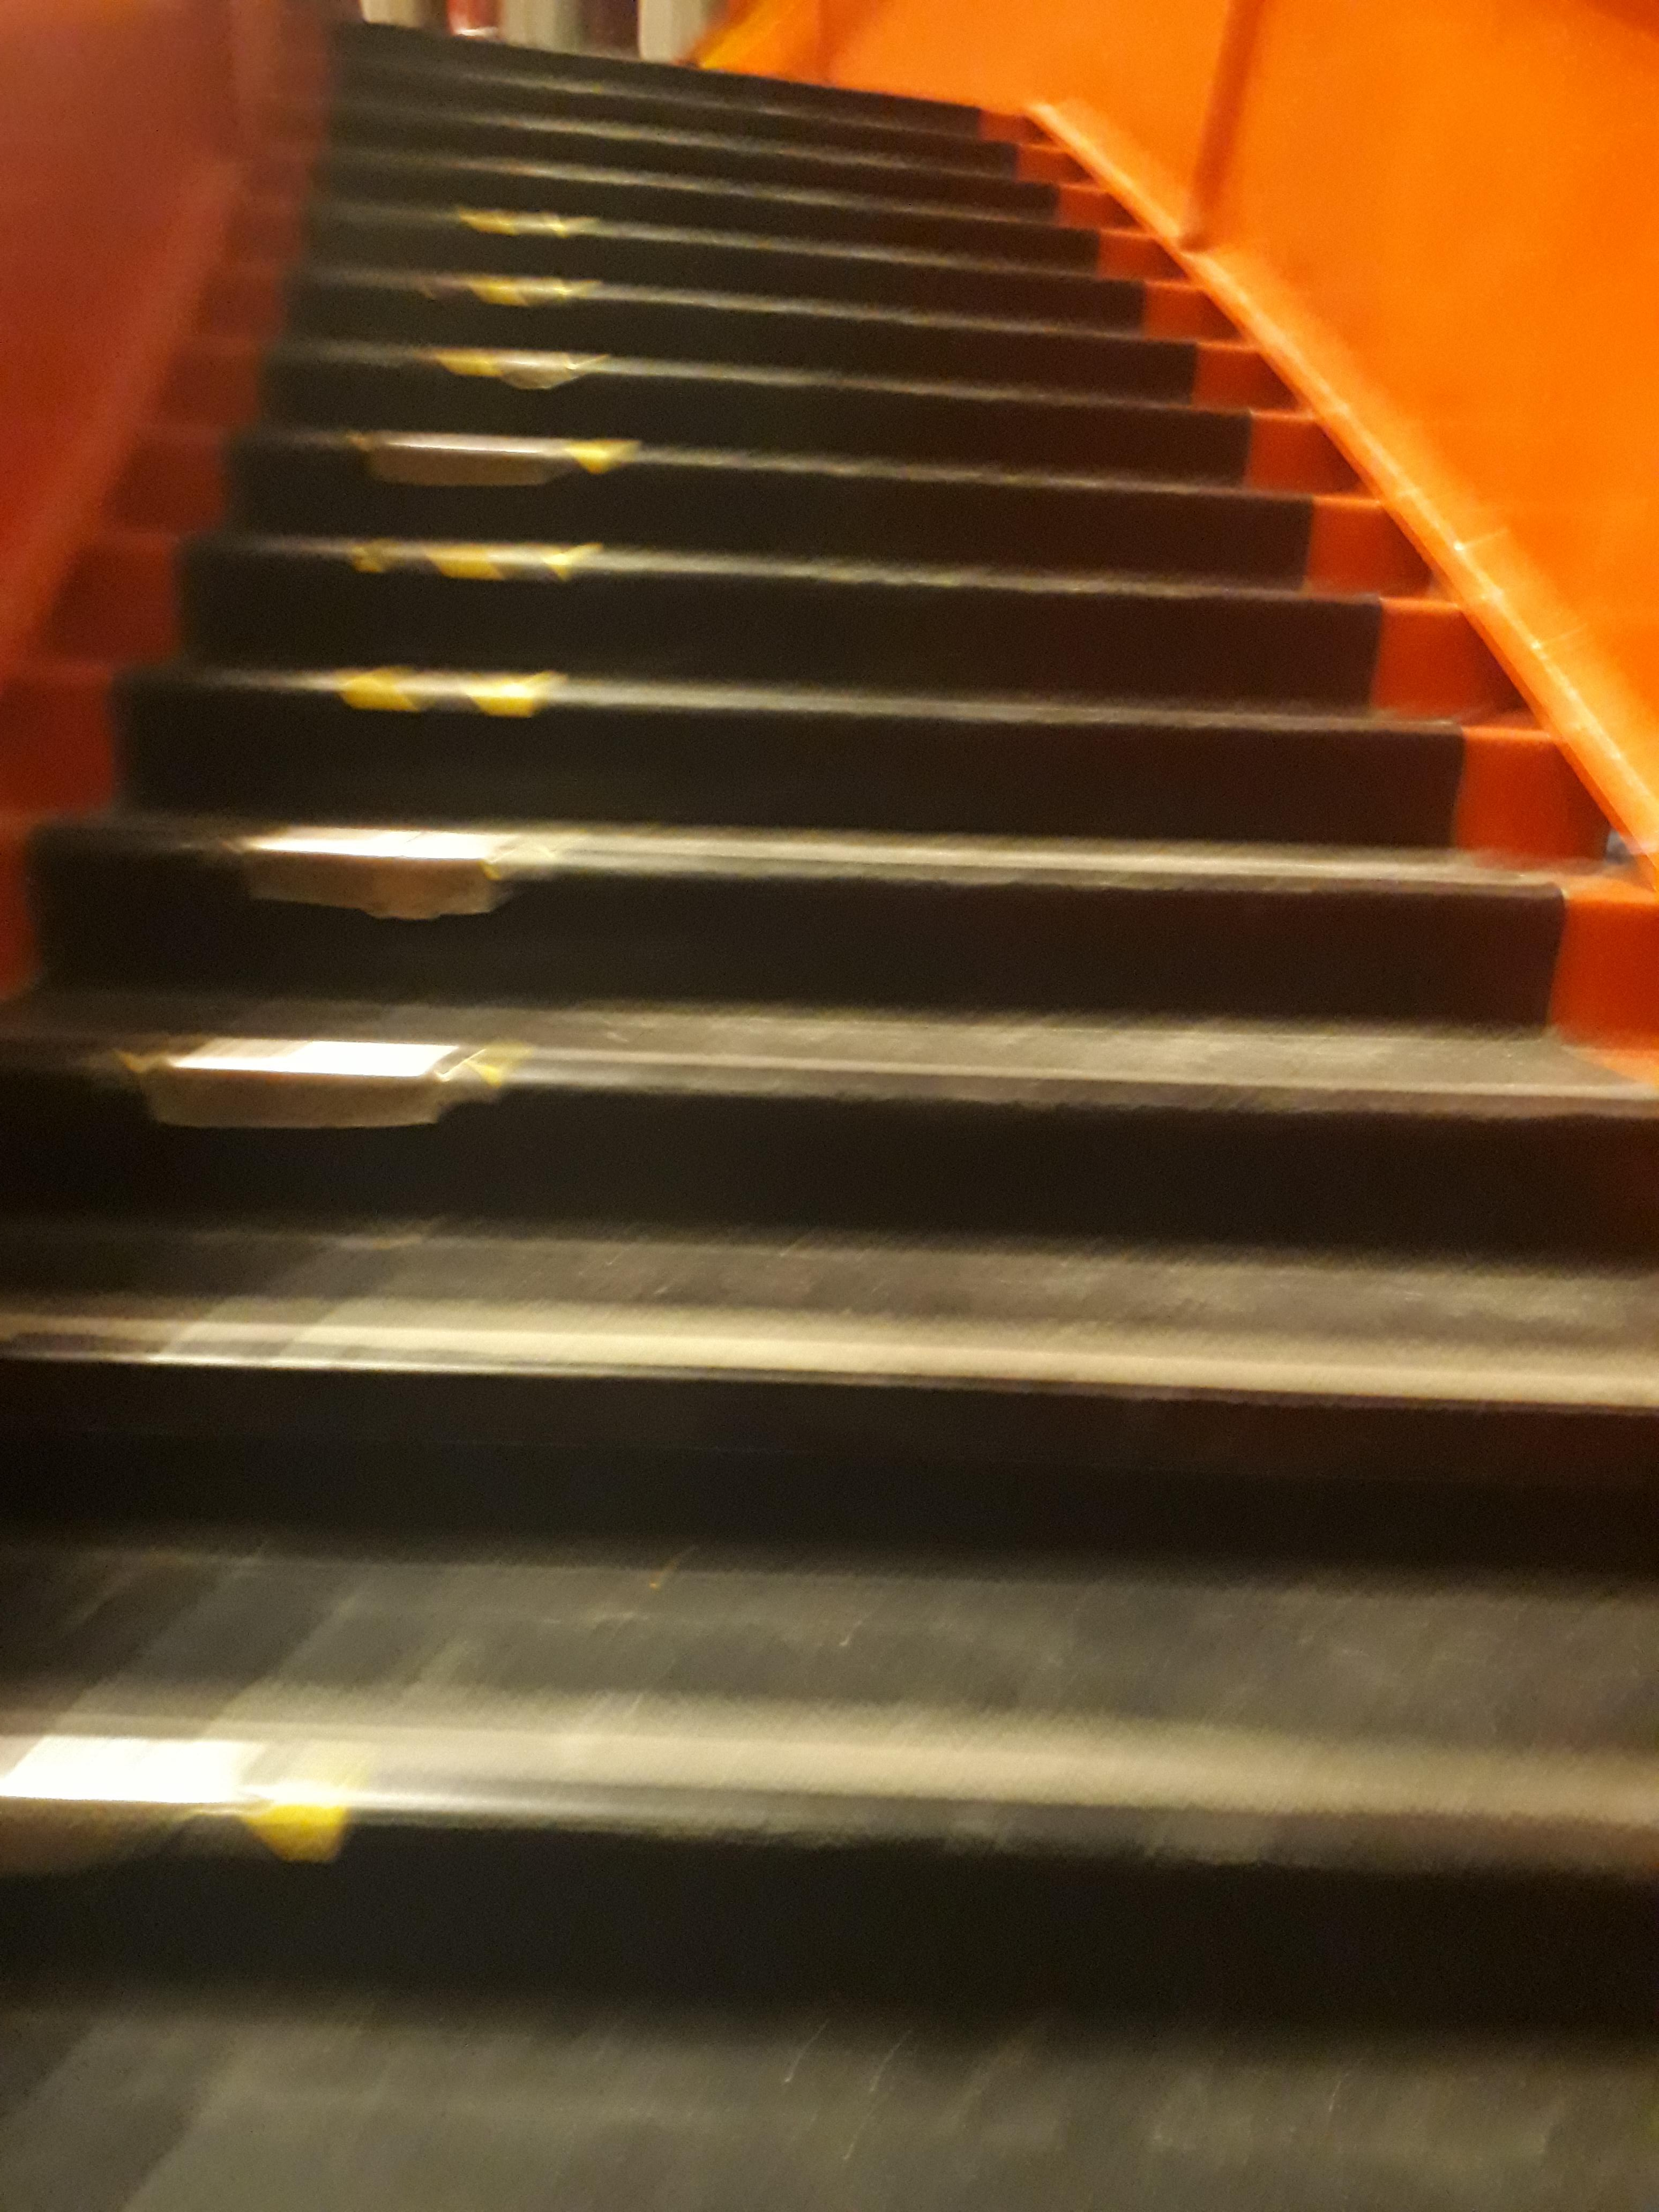stair: (0, 9, 1659, 2212)
